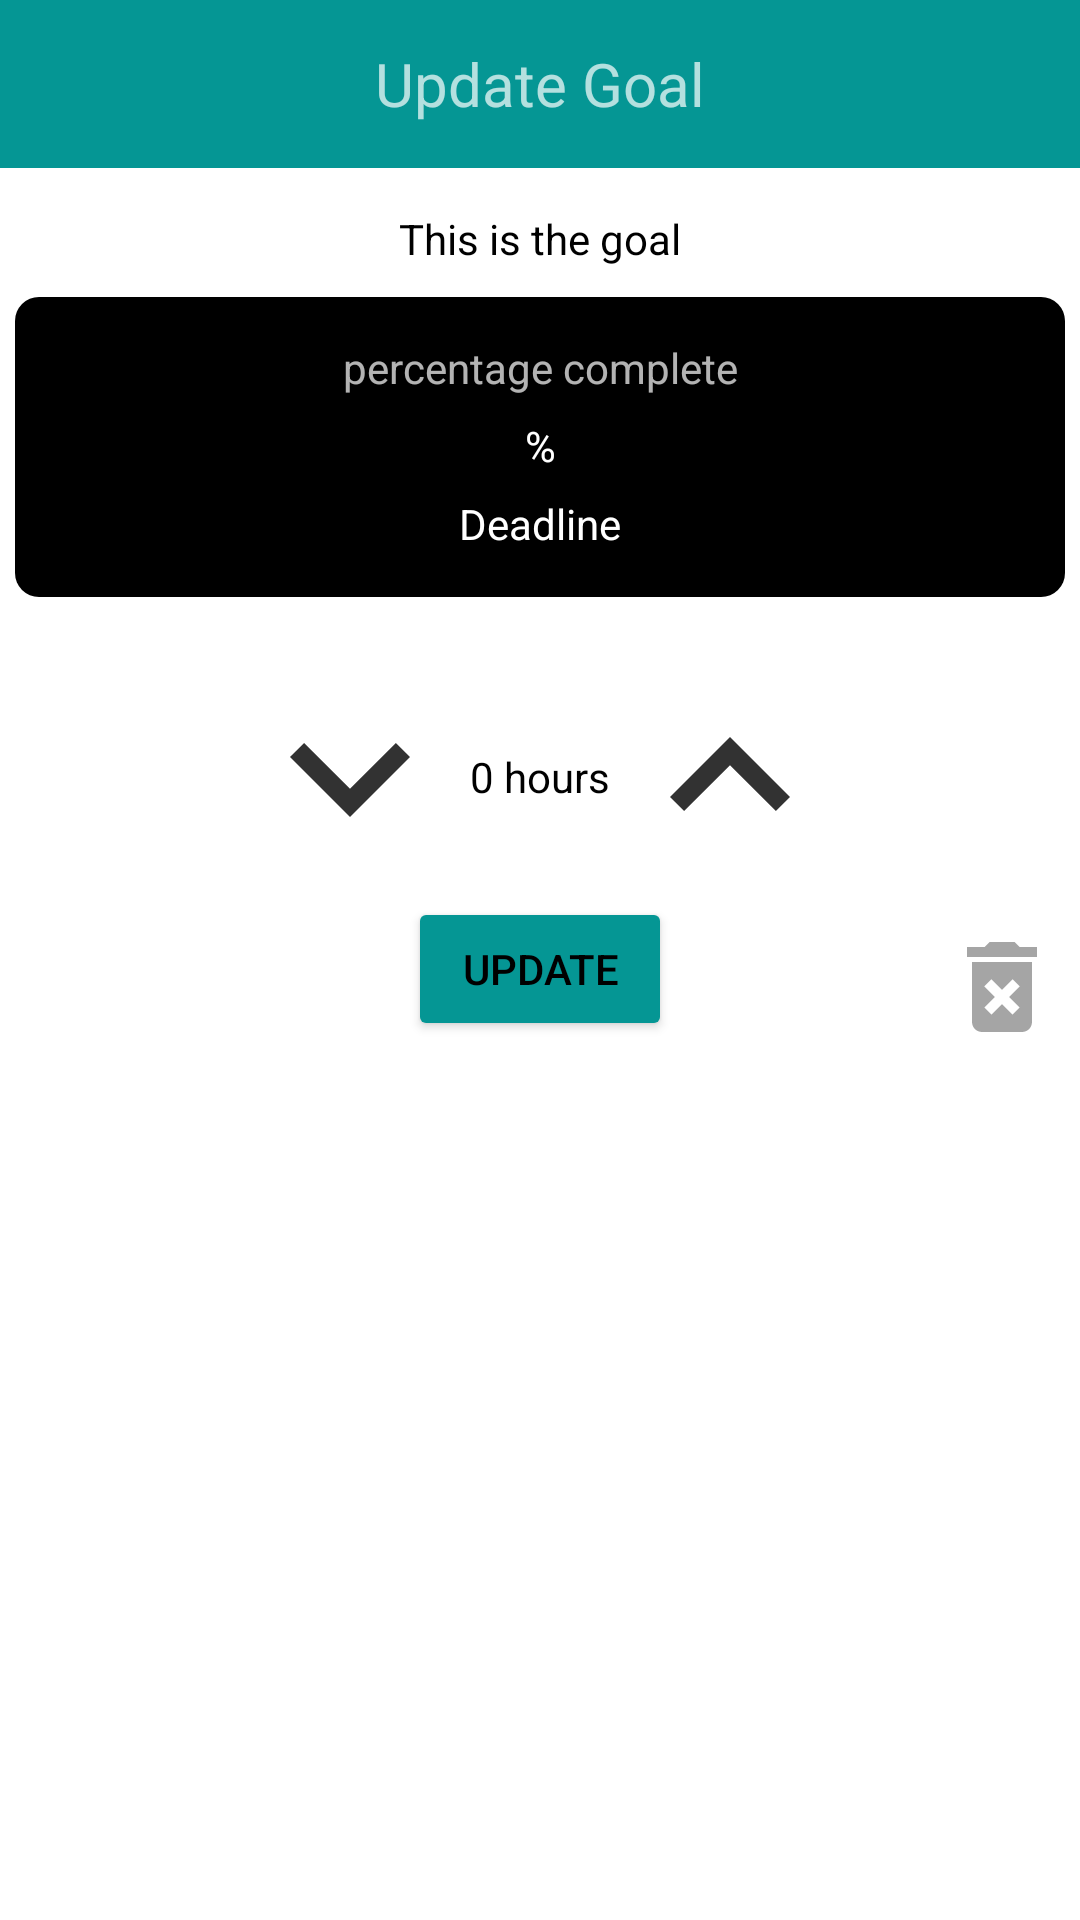

Named icons in this screenshot (1080px x 1920px) and their bounding boxes, (x1, y1, x2, y2):
arrow down: (290, 743, 410, 817)
arrow up: (670, 737, 790, 811)
remove: (967, 942, 1037, 1032)
